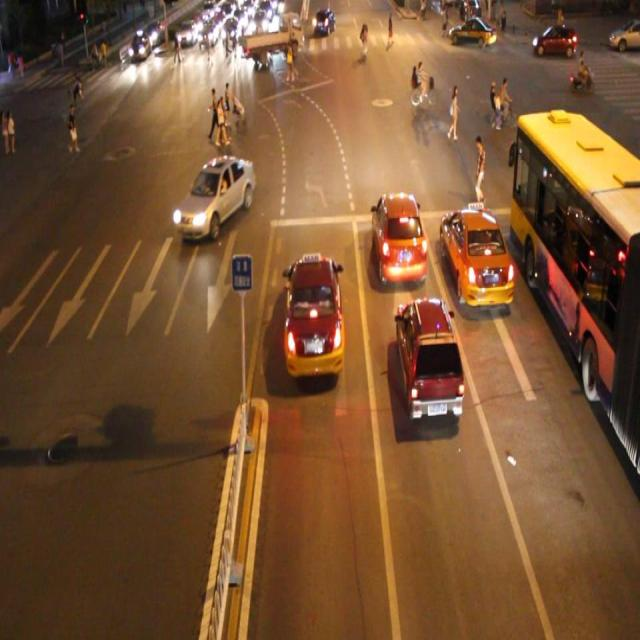car: (395, 297, 466, 422), (440, 204, 518, 308), (283, 253, 344, 378), (170, 152, 254, 238), (373, 192, 429, 288)
van: (511, 116, 640, 468)
